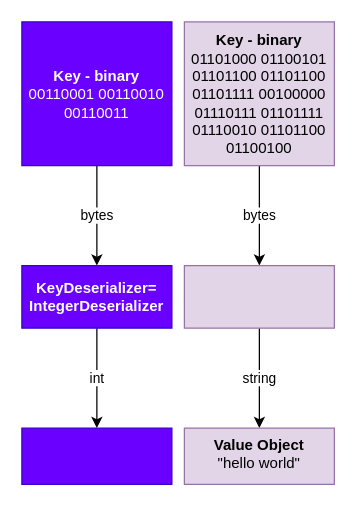
The diagram is 356 pixels wide and 506 high, and some of its shapes have lost their labels. Here are the shapes that lost their labels. From the top down, the centre of each, then its label:
At (x=258, y=296): "ValueDeserializer= IntegerDeserializer".
At (x=96, y=455): "Key Object 123".
